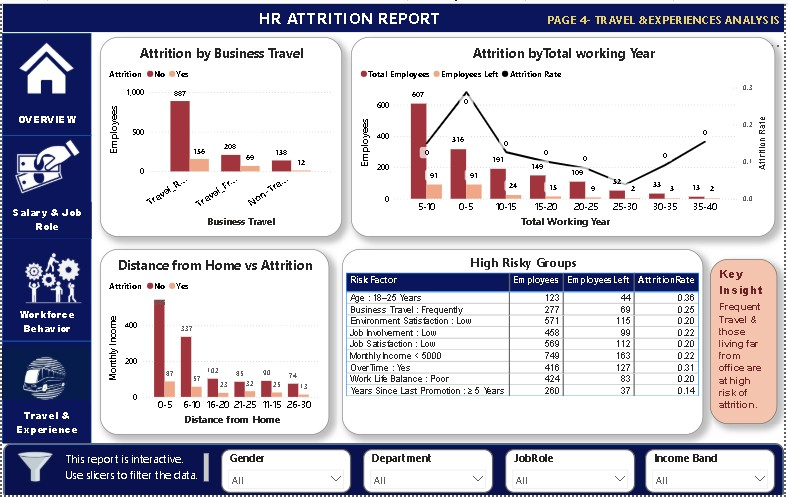

The page's visual inventory and layout, read from the dashboard file:
{"tool":"powerbi","page":{"name":"Travel &  Experience","canvas":[1280,805],"ordinal":3},"visuals":[{"type":"textbox","box":[0,0,1280.5,48.3],"z":0},{"type":"shape","box":[0,216.6,146.3,168.3],"z":1000},{"type":"shape","box":[0,48.3,146.3,168],"z":2000},{"type":"shape","box":[0,384.9,146.3,168],"z":3000},{"type":"shape","box":[0,553,146.3,167],"z":4000},{"type":"image","box":[11.7,61.5,122.9,89.3],"z":5000},{"type":"image","box":[1.5,216.6,144.9,122.9],"z":6000},{"type":"image","box":[10,394.9,144.9,120],"z":7000},{"type":"textbox","box":[1.5,174.1,143.4,42.4],"z":8000},{"type":"textbox","box":[1.5,324.9,144.9,60],"z":9000},{"type":"textbox","box":[1.5,493.2,143.4,60],"z":10000},{"type":"textbox","box":[1.5,657.1,143.4,62.9],"z":11000},{"type":"actionButton","box":[1.5,48.3,143.4,168.3],"z":12000},{"type":"actionButton","box":[0,213.7,143.4,168.3],"z":13000},{"type":"actionButton","box":[0,382,143.4,168.3],"z":14000},{"type":"actionButton","box":[0,550.2,143.4,169.8],"z":15000},{"type":"image","box":[0,553.2,143.4,103.9],"z":16000},{"type":"clusteredColumnChart","title":"Attrition by Business Travel","fields":{"Category":["HR_Attrition_Cleaned.Business_Travel"],"Y":["CountNonNull(HR_Attrition_Cleaned.Attrition)"],"Series":["HR_Attrition_Cleaned.Attrition"]},"box":[160.3,55.6,396,327.2],"z":17000},{"type":"clusteredColumnChart","title":"Distance from Home vs Attrition","fields":{"Y":["CountNonNull(HR_Attrition_Cleaned.Attrition)"],"Series":["HR_Attrition_Cleaned.Attrition"],"Category":["HR_Attrition_Cleaned.Distance Group"]},"box":[160.3,402.5,375,304.3],"z":19000},{"type":"lineClusteredColumnComboChart","title":"Attrition byTotal working Year","fields":{"Category":["HR_Attrition_Cleaned.Working Years Group"],"Y2":["HR_Attrition_Cleaned.Attrition Rate"],"Y":["HR_Attrition_Cleaned.Total Employees","HR_Attrition_Cleaned.Employees Left"]},"box":[571,55.6,693.7,327],"z":20000},{"type":"tableEx","title":"High Risky Groups","fields":{"Values":["Table.Risk Factor","HR_Attrition_Cleaned.Total Employees (Risk)","HR_Attrition_Cleaned.Employees Left (Risk)","HR_Attrition_Cleaned.Attrition Rate (Risk)"]},"box":[556.3,402.5,590.7,304.3],"z":21000},{"type":"shape","box":[1.7,719.5,1278.3,95],"z":22000},{"type":"slicer","fields":{"Values":["HR_Attrition_Cleaned.Gender"]},"box":[358.3,730,213.3,71.7],"z":23000},{"type":"slicer","fields":{"Values":["HR_Attrition_Cleaned.Department"]},"box":[590,730,213.3,71.7],"z":24000},{"type":"slicer","fields":{"Values":["HR_Attrition_Cleaned.Income Band"]},"box":[1051.7,730,213.3,71.7],"z":25000},{"type":"slicer","fields":{"Values":["HR_Attrition_Cleaned.JobRole"]},"box":[823.3,730,213.3,71.7],"z":26000},{"type":"textbox","box":[98.3,730,245,58.3],"z":27000},{"type":"image","box":[11.7,730,86.7,58.3],"z":28000},{"type":"textbox","title":"Key Insight","box":[1158.4,418.9,109.6,270],"z":29000}]}

Visuals, with their boxes in screenshot pixels (x1, y1, x2, y2), scaled from the page's 1280x805 canvas onto the 788x499 screenshot:
textbox: left=0, top=0, right=787, bottom=30
shape: left=0, top=134, right=90, bottom=239
shape: left=0, top=30, right=90, bottom=134
shape: left=0, top=239, right=90, bottom=343
shape: left=0, top=343, right=90, bottom=446
image: left=7, top=38, right=83, bottom=93
image: left=1, top=134, right=90, bottom=210
image: left=6, top=245, right=95, bottom=319
textbox: left=1, top=108, right=89, bottom=134
textbox: left=1, top=201, right=90, bottom=239
textbox: left=1, top=306, right=89, bottom=343
textbox: left=1, top=407, right=89, bottom=446
actionButton: left=1, top=30, right=89, bottom=134
actionButton: left=0, top=132, right=88, bottom=237
actionButton: left=0, top=237, right=88, bottom=341
actionButton: left=0, top=341, right=88, bottom=446
image: left=0, top=343, right=88, bottom=407
"Attrition by Business Travel" clusteredColumnChart: left=99, top=34, right=342, bottom=237
"Distance from Home vs Attrition" clusteredColumnChart: left=99, top=250, right=330, bottom=438
"Attrition byTotal working Year" lineClusteredColumnComboChart: left=352, top=34, right=779, bottom=237
"High Risky Groups" tableEx: left=342, top=250, right=706, bottom=438
shape: left=1, top=446, right=787, bottom=498
slicer - HR_Attrition_Cleaned.Gender: left=221, top=453, right=352, bottom=497
slicer - HR_Attrition_Cleaned.Department: left=363, top=453, right=495, bottom=497
slicer - HR_Attrition_Cleaned.Income Band: left=647, top=453, right=779, bottom=497
slicer - HR_Attrition_Cleaned.JobRole: left=507, top=453, right=638, bottom=497
textbox: left=61, top=453, right=211, bottom=489
image: left=7, top=453, right=61, bottom=489
"Key Insight" textbox: left=713, top=260, right=781, bottom=427
